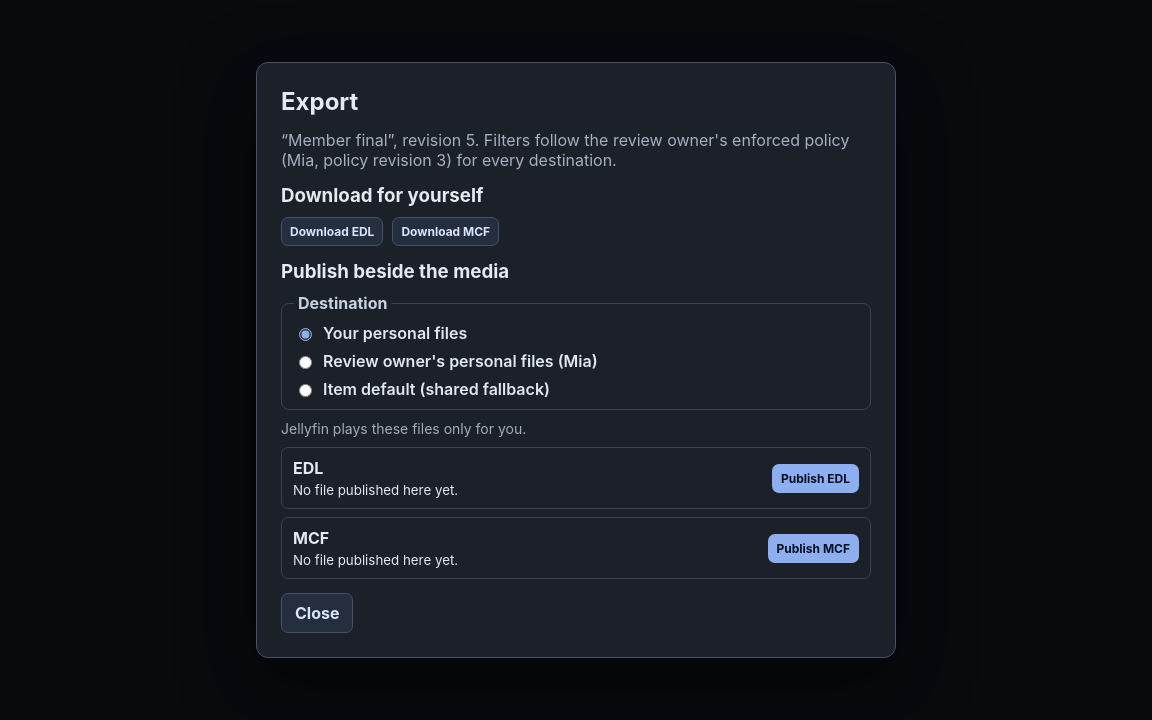
Test: confirms replacing another review's file with the server's confirmation for the previewed destination
What coordinates should you click on to do the following:
click the radio button labelled "Review owner's personal files (Mia)"
I would click on:
 (306, 362)
Its box is [299,356,312,369].
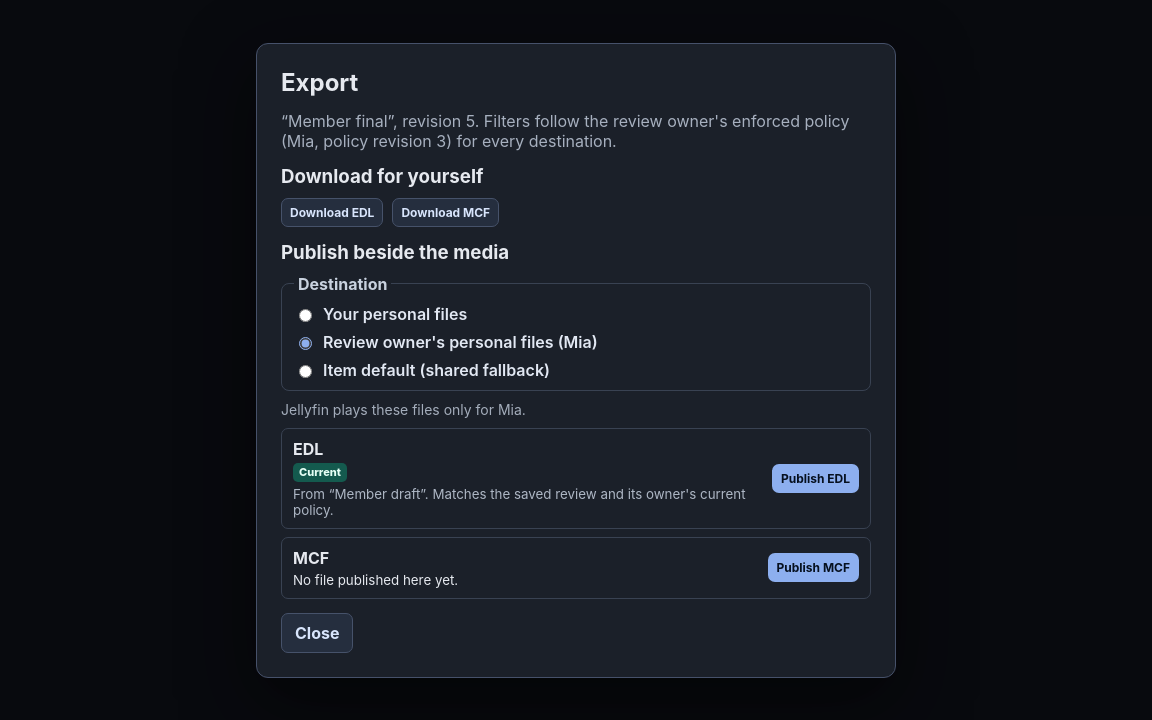
What coordinates should you click on to do the following:
click the button "Publish EDL"
I would click on:
 (815, 478)
Its box is [772,464,859,492].
(page scrolled)
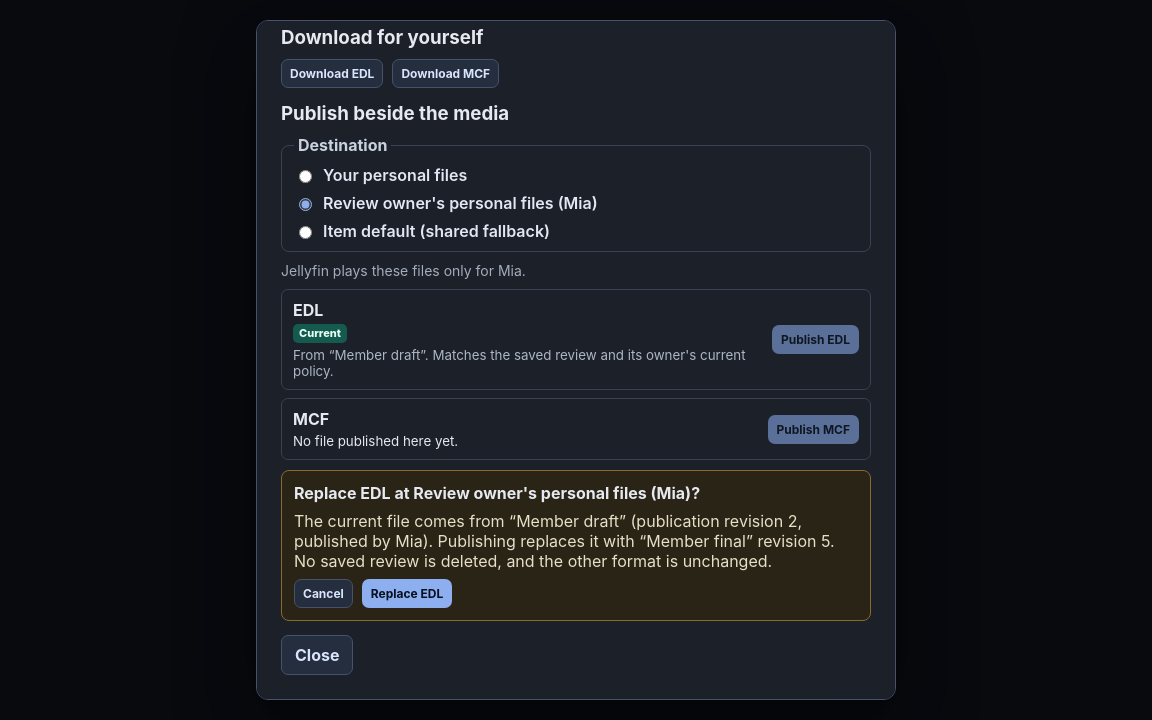
Check: the message named "Confirm replacement" shows "The current file comes from “Member draft” (publication revision 2, published by Mia).", box [281,470,871,621]
Check: the message named "Confirm replacement" shows "No saved review is deleted, and the other format is unchanged.", box [294,531,835,571]
Check: the button "Publish MCF" is disabled, box [768,414,859,444]
What coordinates should you click on to do the following:
click the button "Replace EDL"
I would click on:
 (407, 594)
Its box is [362,579,452,608].
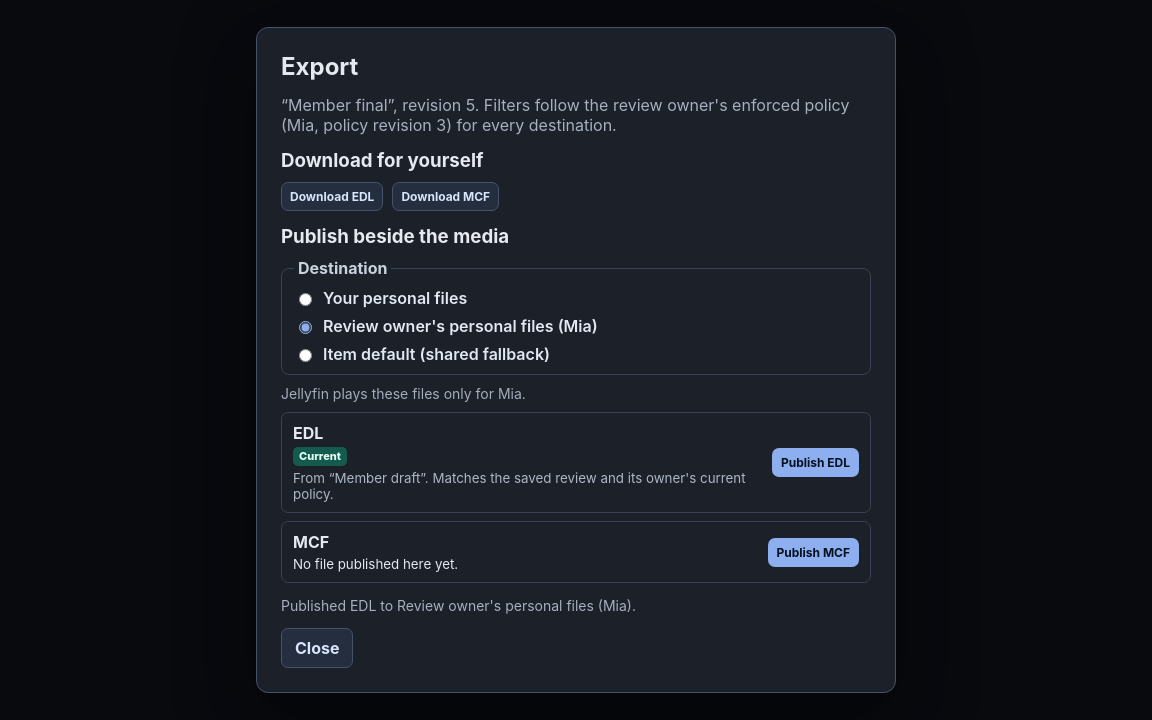
Check: the message reads "Published EDL to Review owner's personal files (Mia).", box [281,597,636,614]
